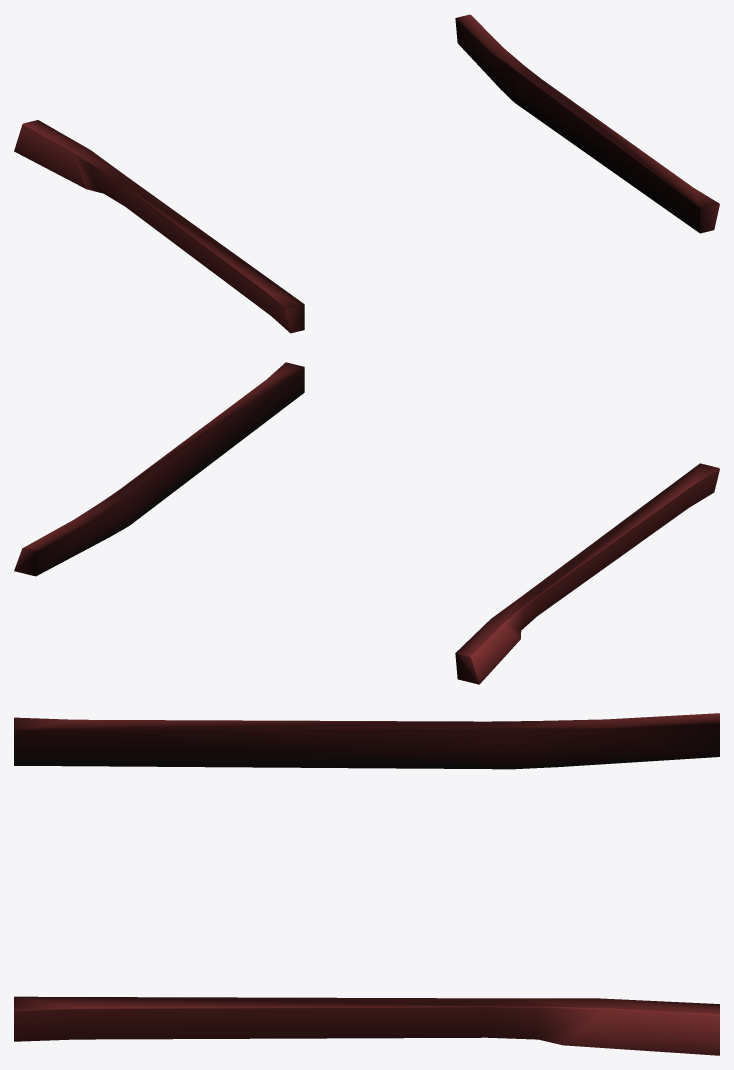
Rendered from Supra_SideSkirt_02_Trim.fbx.
3 views of the same model, one above another, from view 1: azimuth 30°, elevation 25°; view 2: azimuth 150°, elevation 25°; view 3: azimuth 270°, elevation 25° (orthographic). The views are drawn at different scales.
Visible parts, largest first — view 1: Supra_SideSkirt_02_Trim; view 2: Supra_SideSkirt_02_Trim; view 3: Supra_SideSkirt_02_Trim.
Part boxes in pixels (<box>): Supra_SideSkirt_02_Trim: <box>14,14,719,333</box>; Supra_SideSkirt_02_Trim: <box>14,362,719,684</box>; Supra_SideSkirt_02_Trim: <box>14,713,719,1055</box>.
Bounding box in the file's own units: 189 × 9.97 × 180.
